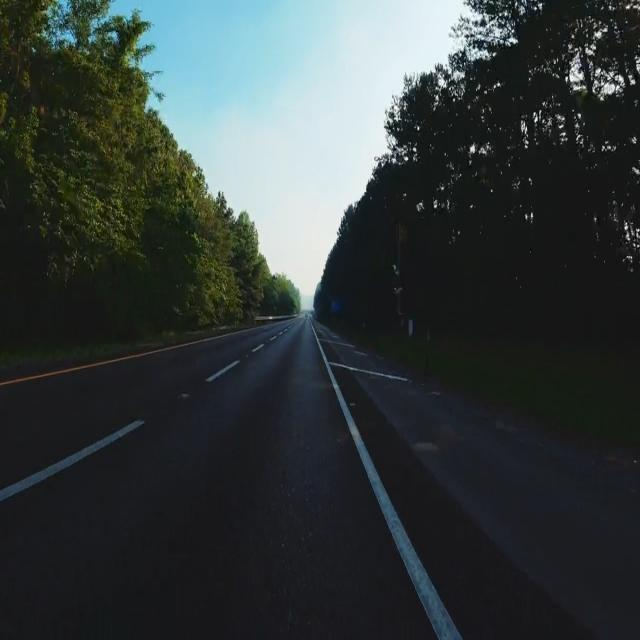asphalt: (0, 318, 436, 639), (333, 368, 592, 639)
